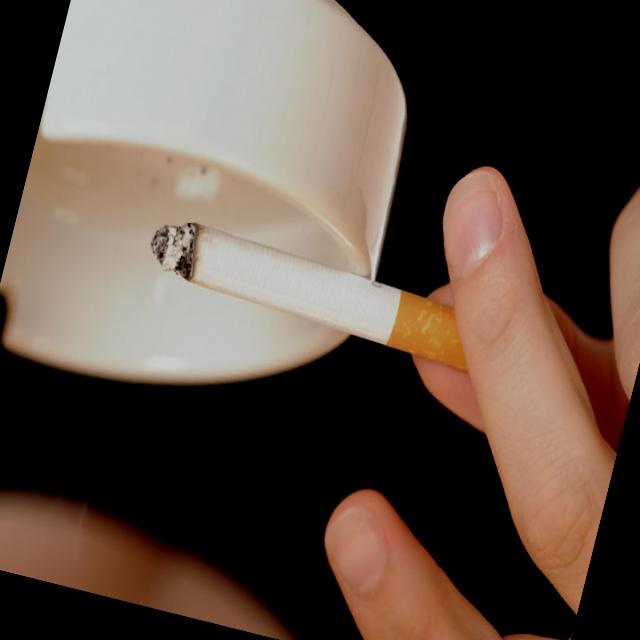smoke: (132, 202, 534, 398)
